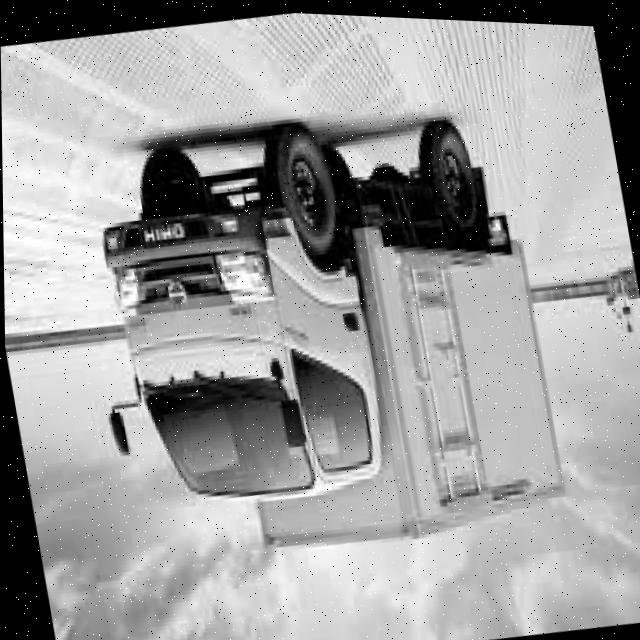truck: (48, 100, 418, 552)
